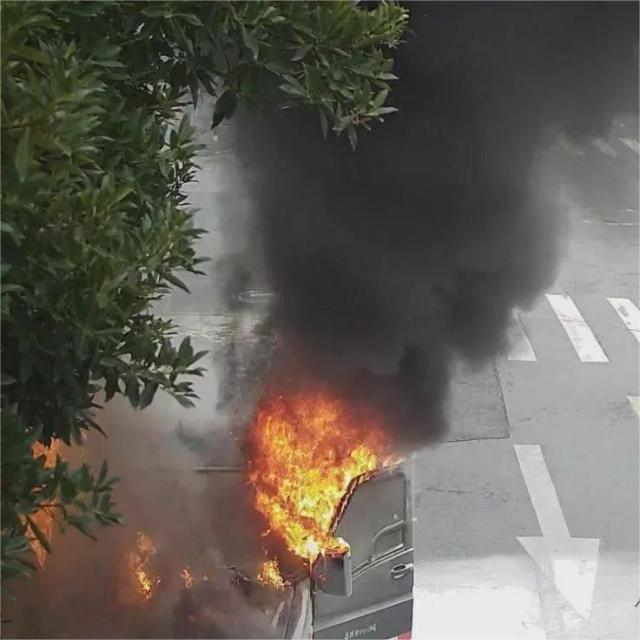Fire: (248, 374, 387, 592), (114, 532, 163, 605)
Smoke: (215, 152, 568, 368), (398, 4, 640, 153), (396, 372, 454, 454)
